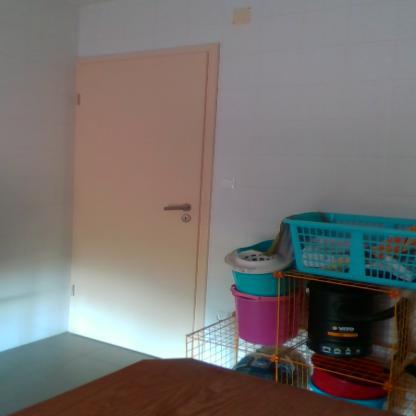door: (78, 63, 196, 359)
hinged: (70, 284, 76, 298), (76, 92, 81, 106)
lever: (162, 206, 190, 212)
